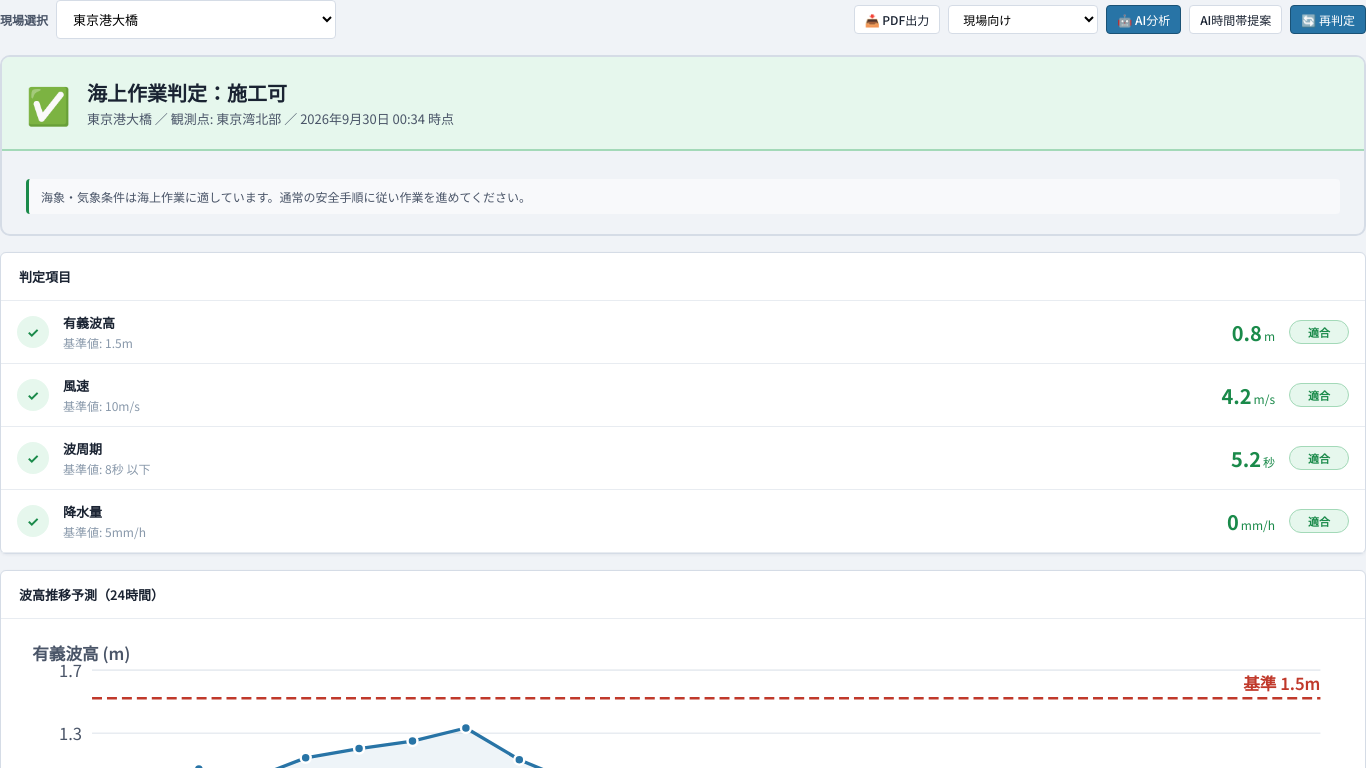
Test: MarineWorkPage › AI分析 button › shows 分析中 while loading then displays AI result
Click the button "🤖 AI分析" at (1144, 20), box [1106,5,1181,34]
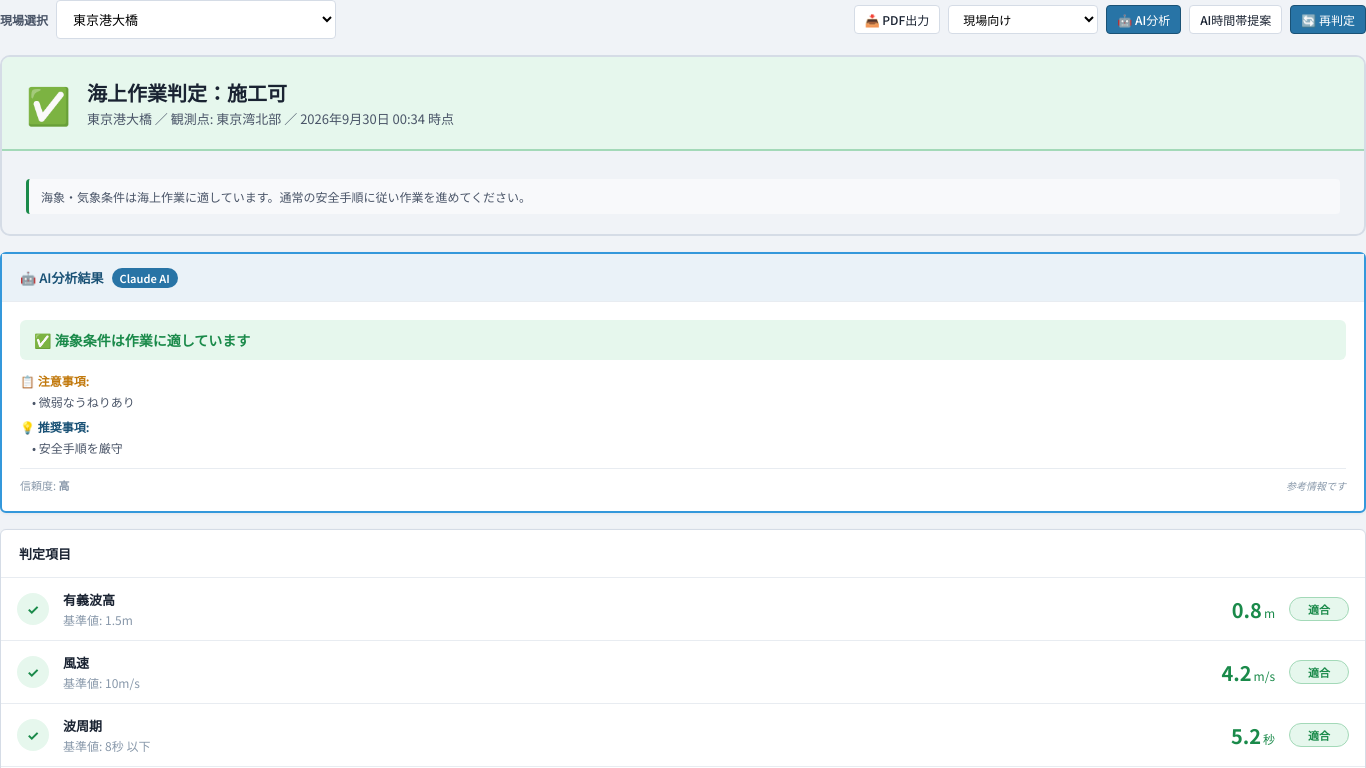
Expected: the text "AI分析結果" is shown, [20,268,104,287]
Expected: the text "海象条件は作業に適しています" is shown, [55,330,250,350]
Expected: the text "微弱なうねりあり" is shown, [39,393,135,410]
